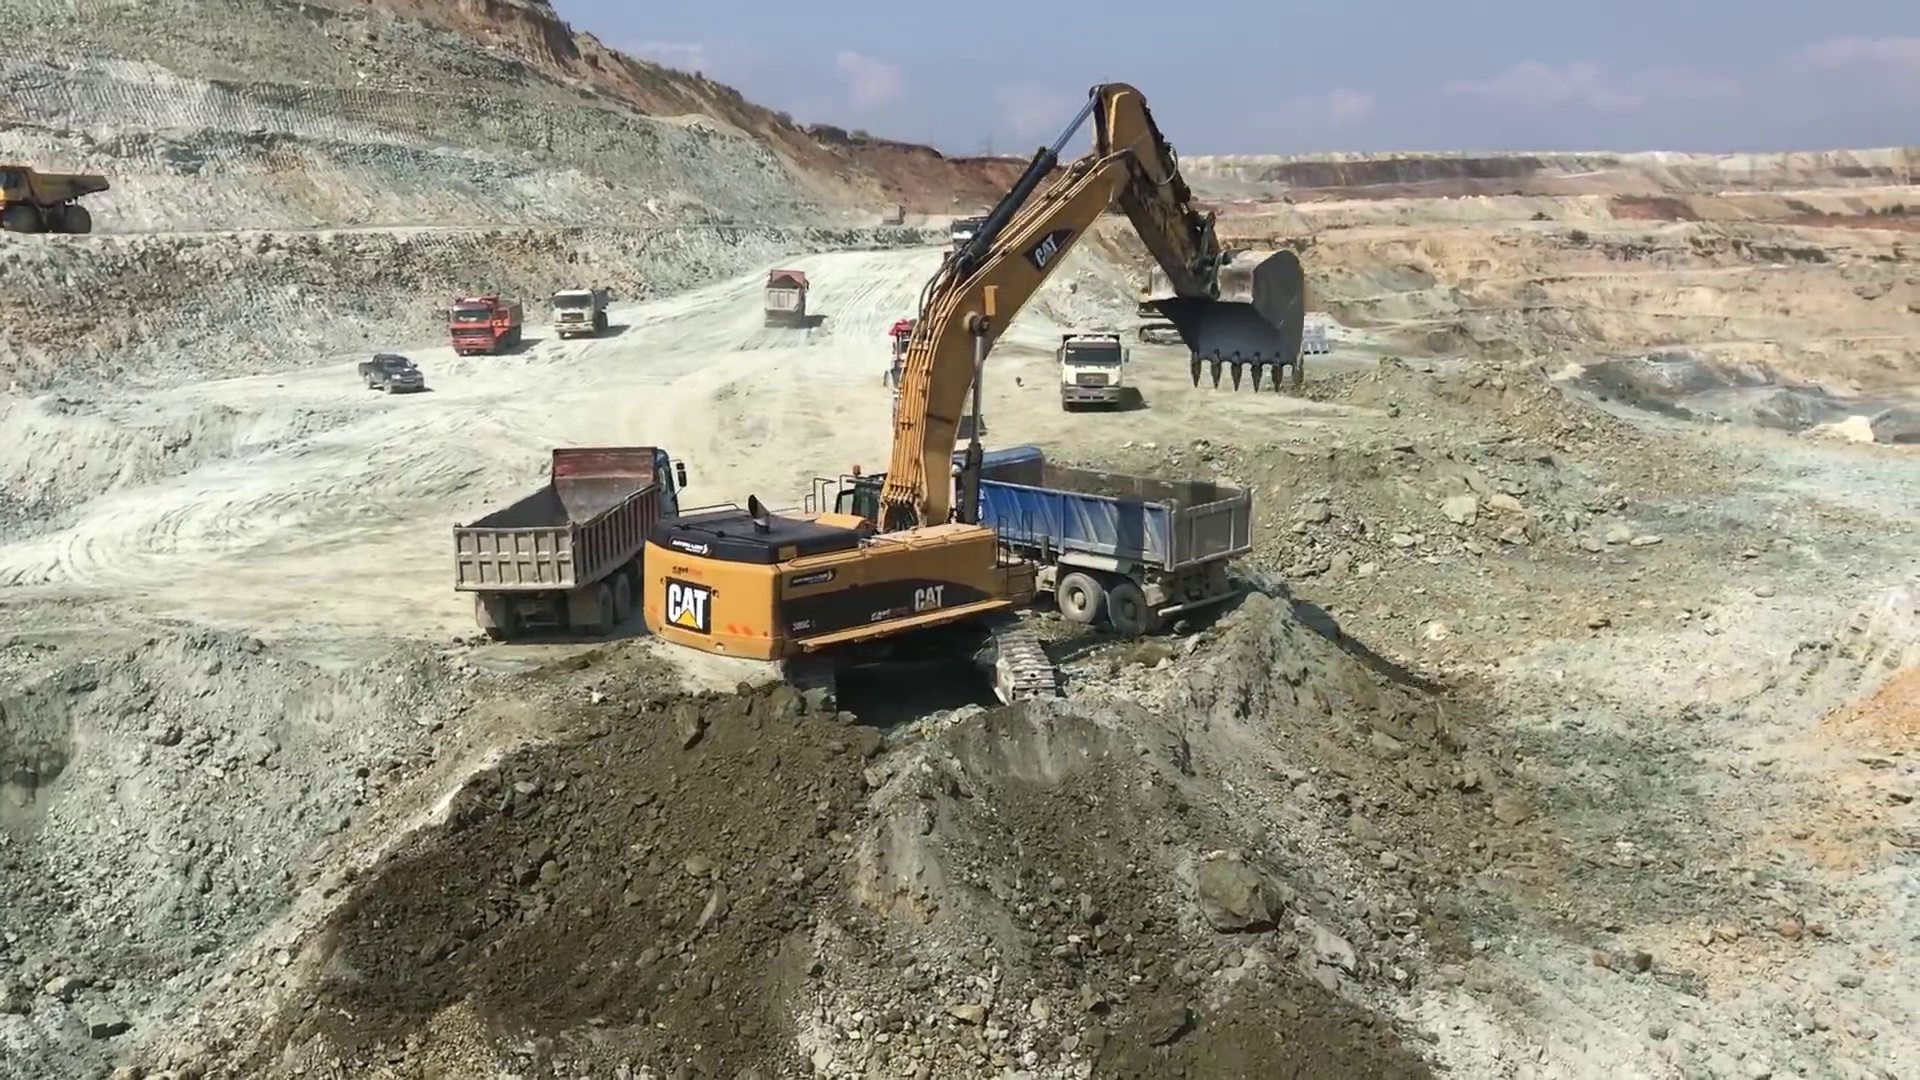car: (349, 345, 430, 396)
dumper: (1, 164, 111, 244)
excavator: (646, 80, 1312, 708)
truck: (947, 436, 1255, 628), (451, 444, 687, 636), (1058, 323, 1124, 411), (448, 291, 529, 355), (555, 285, 611, 342), (764, 262, 806, 328)
